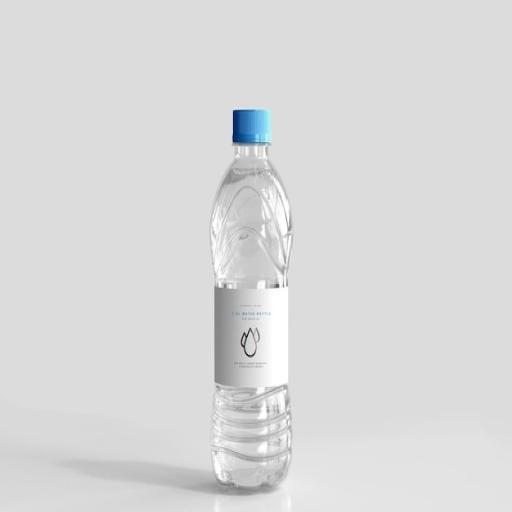bottle: (205, 102, 304, 509)
